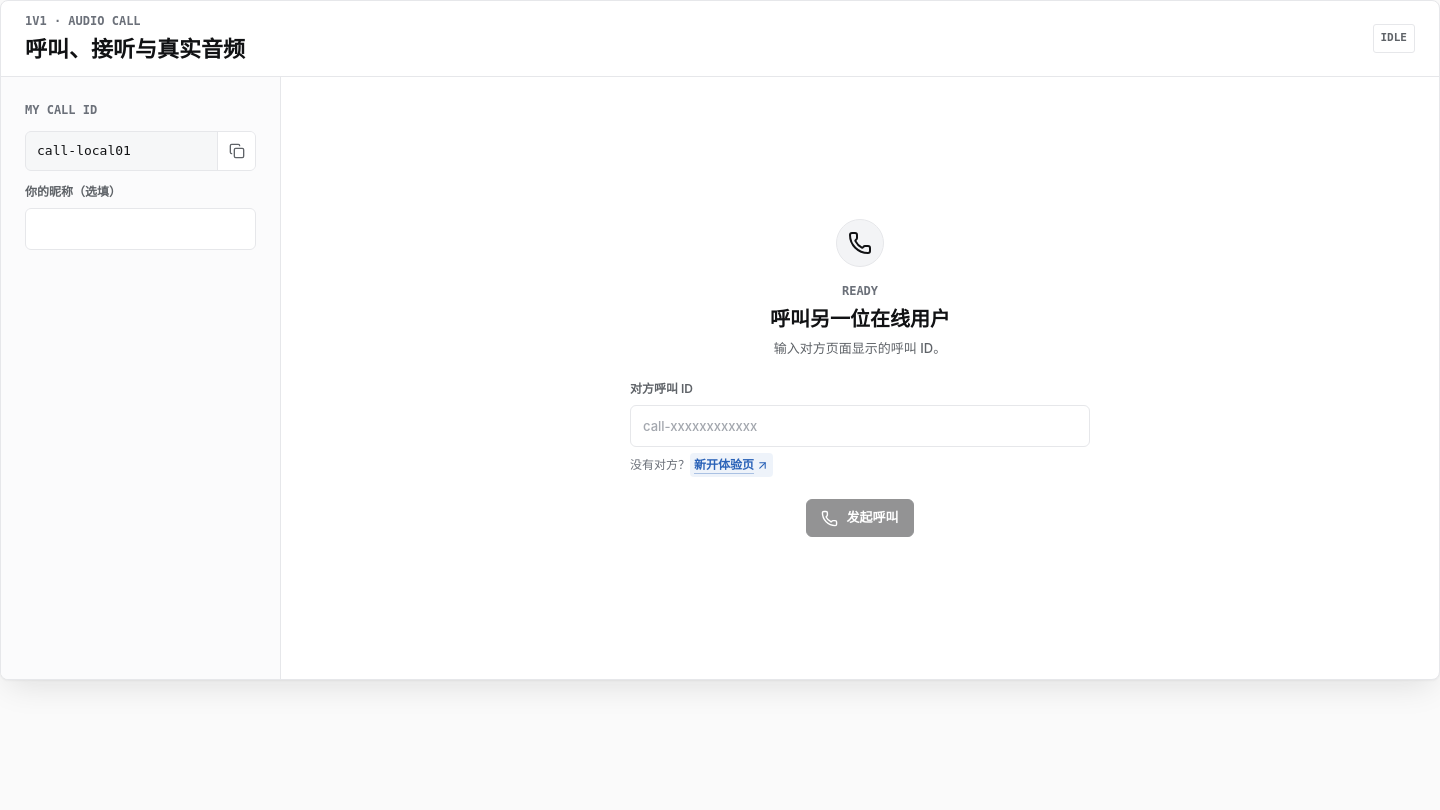
Scenario: OneToOneCallScene › 发送中断网后到原发送总截止，重连蒙层显示本地网络异常
Type "call-remote02" into the field labelled "对方呼叫 ID".
click(860, 426); type("call-remote02")  # box [630,405,1090,447]
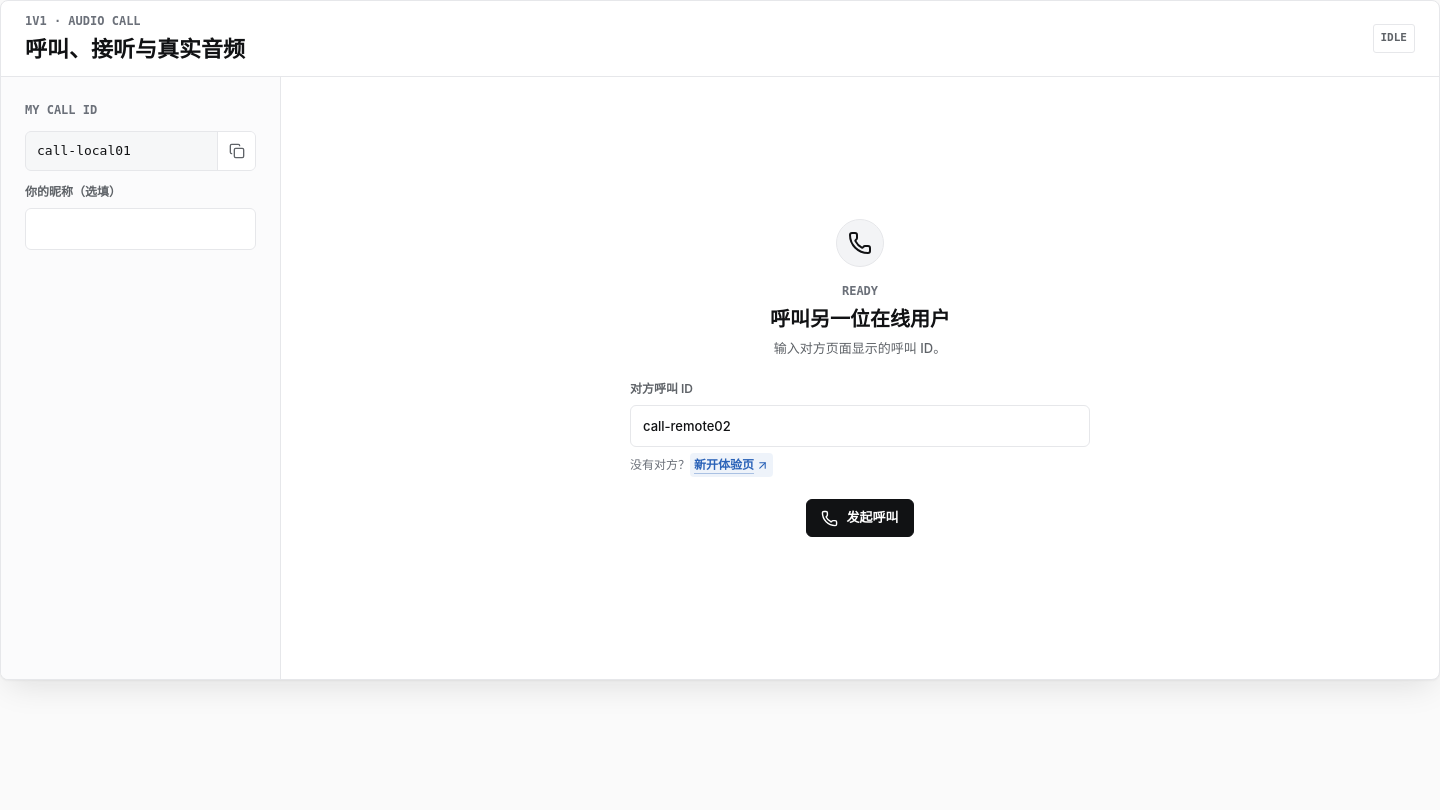
Click the button "发起呼叫".
click(860, 518)  # box [806,499,914,537]
Wait 30000 ms
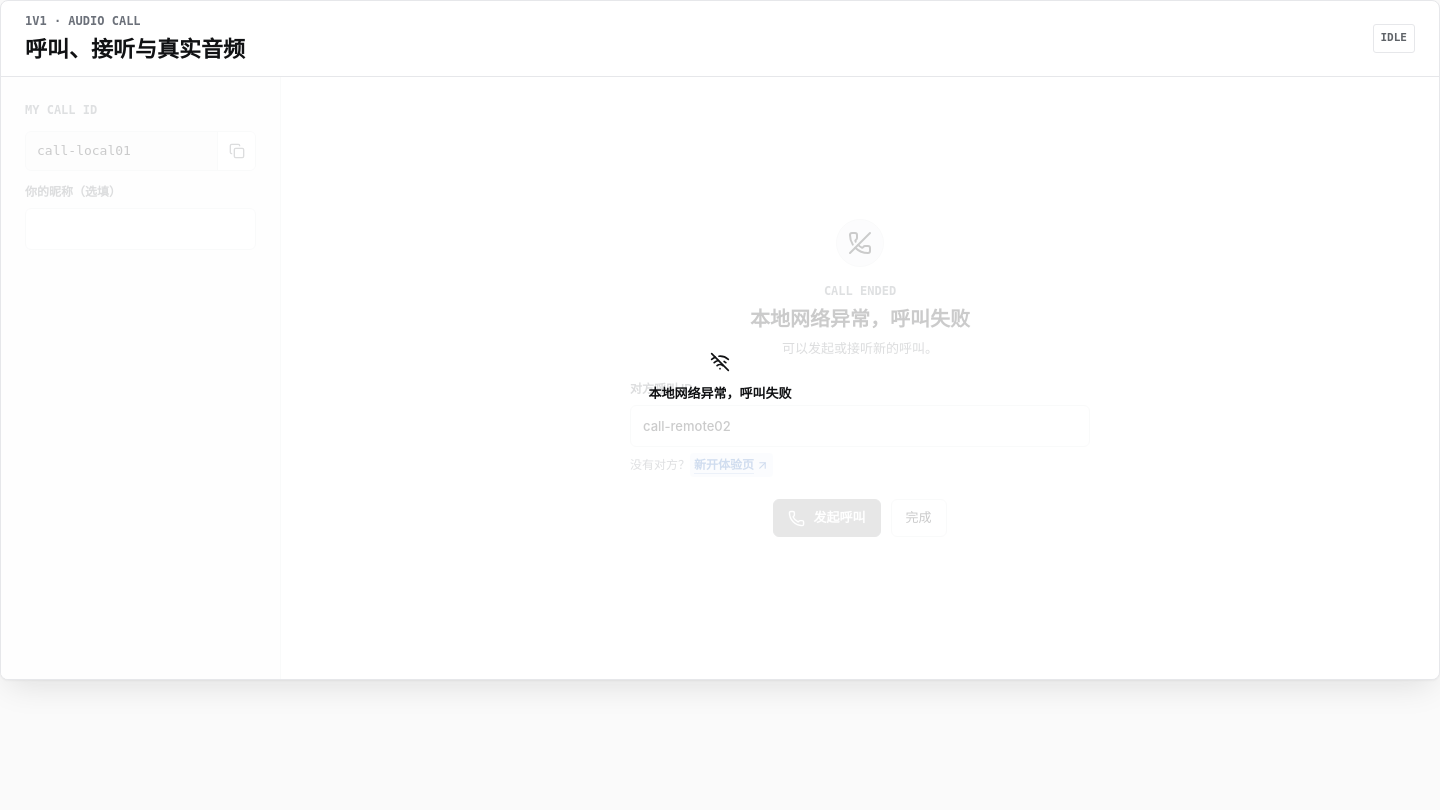
Check: the message reads "本地网络异常，呼叫失败", box [648,385,792,401]
